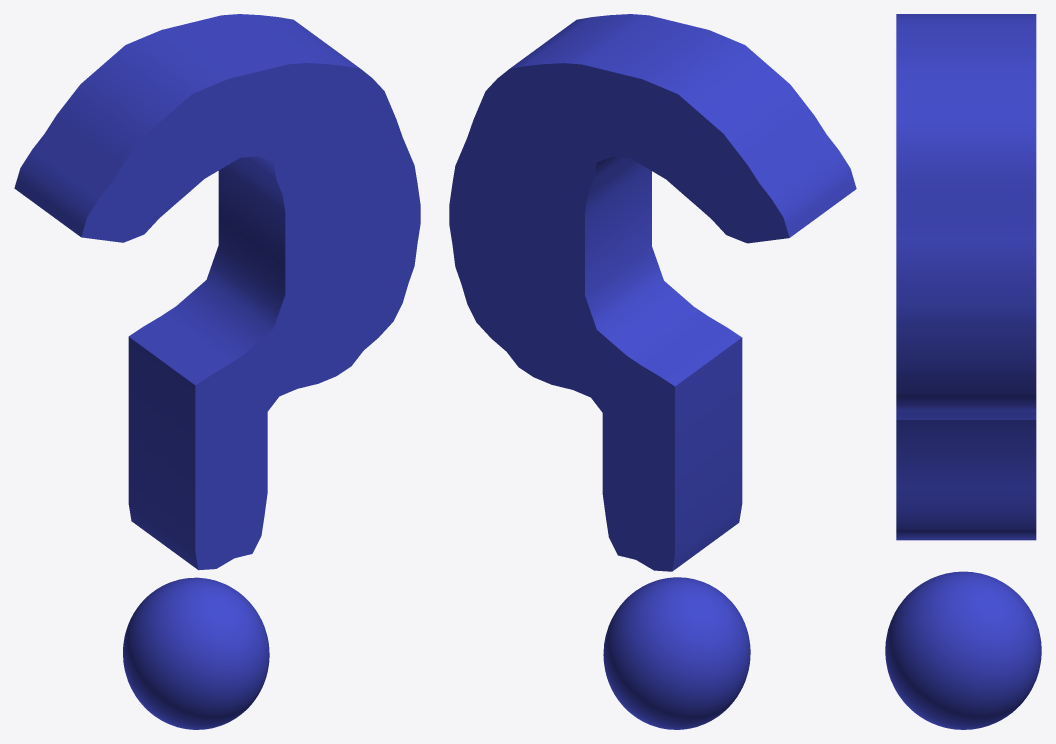
File: question_mark.fbx
The picture shows the model from 3 angles, left to right: view 1: azimuth 30°, elevation 25°; view 2: azimuth 150°, elevation 25°; view 3: azimuth 270°, elevation 25°; orthographic projection. The views are drawn at different scales.
Visible parts, largest first — view 1: root (×2); view 2: root (×2); view 3: root (×2).
Part boxes in pixels (x1,y1,x2,y2): root (×2): [14, 14, 420, 729]; root (×2): [449, 14, 856, 729]; root (×2): [885, 14, 1041, 729].
Size of the model in its own units: 0.1095 by 0.2058 by 0.0419.
